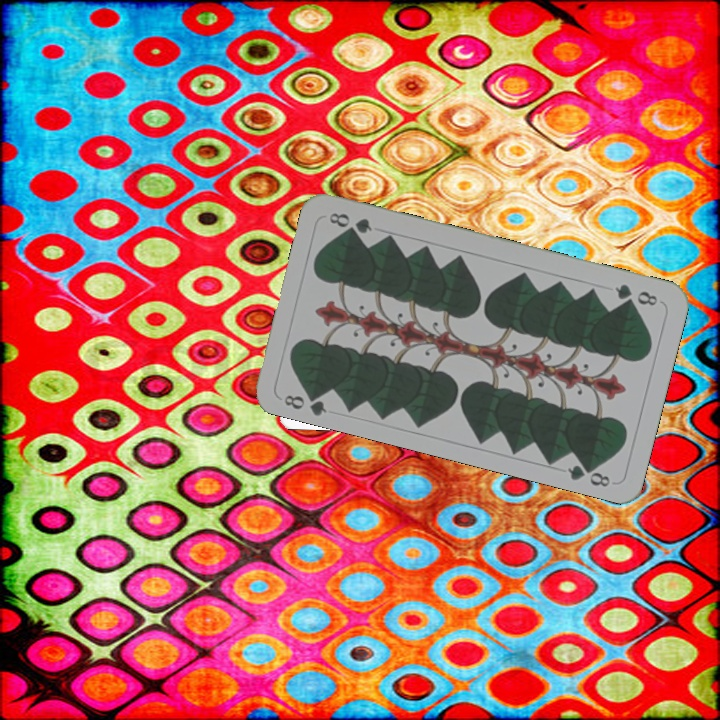G8: (280, 386, 330, 418), (610, 280, 661, 309)
